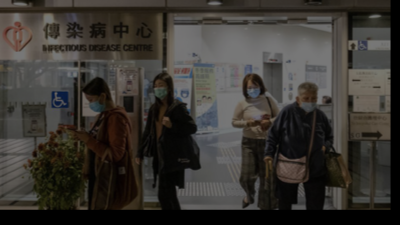with_mask: (300, 92, 317, 114), (152, 79, 169, 99), (85, 95, 101, 112), (246, 82, 260, 98)
